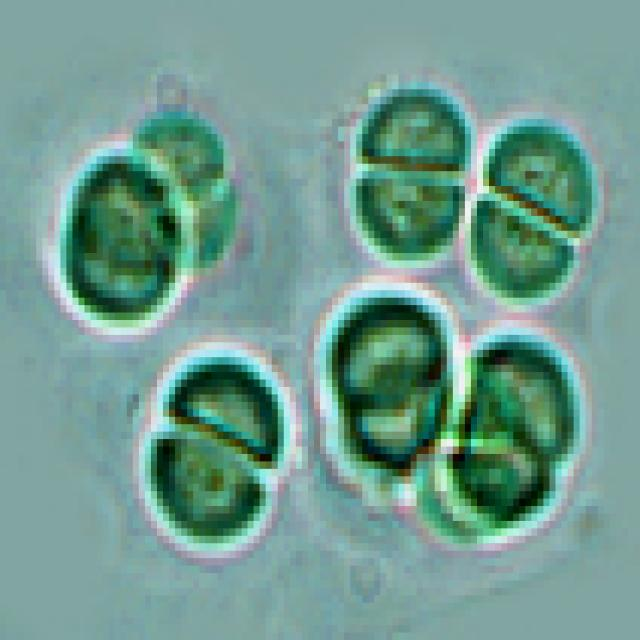Blue Green Algae: (139, 424, 272, 558), (157, 350, 296, 469), (483, 112, 598, 246), (471, 335, 586, 454), (465, 194, 573, 312), (441, 424, 549, 536), (73, 149, 187, 253), (332, 290, 453, 387), (344, 164, 465, 260), (350, 82, 477, 171), (48, 231, 175, 320), (344, 387, 447, 469)
